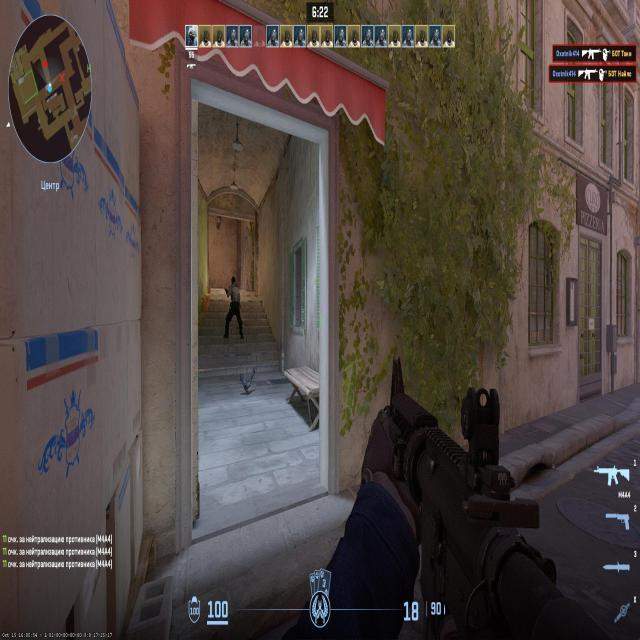T: (230, 277, 240, 318)
T_heat: (232, 278, 236, 288)
